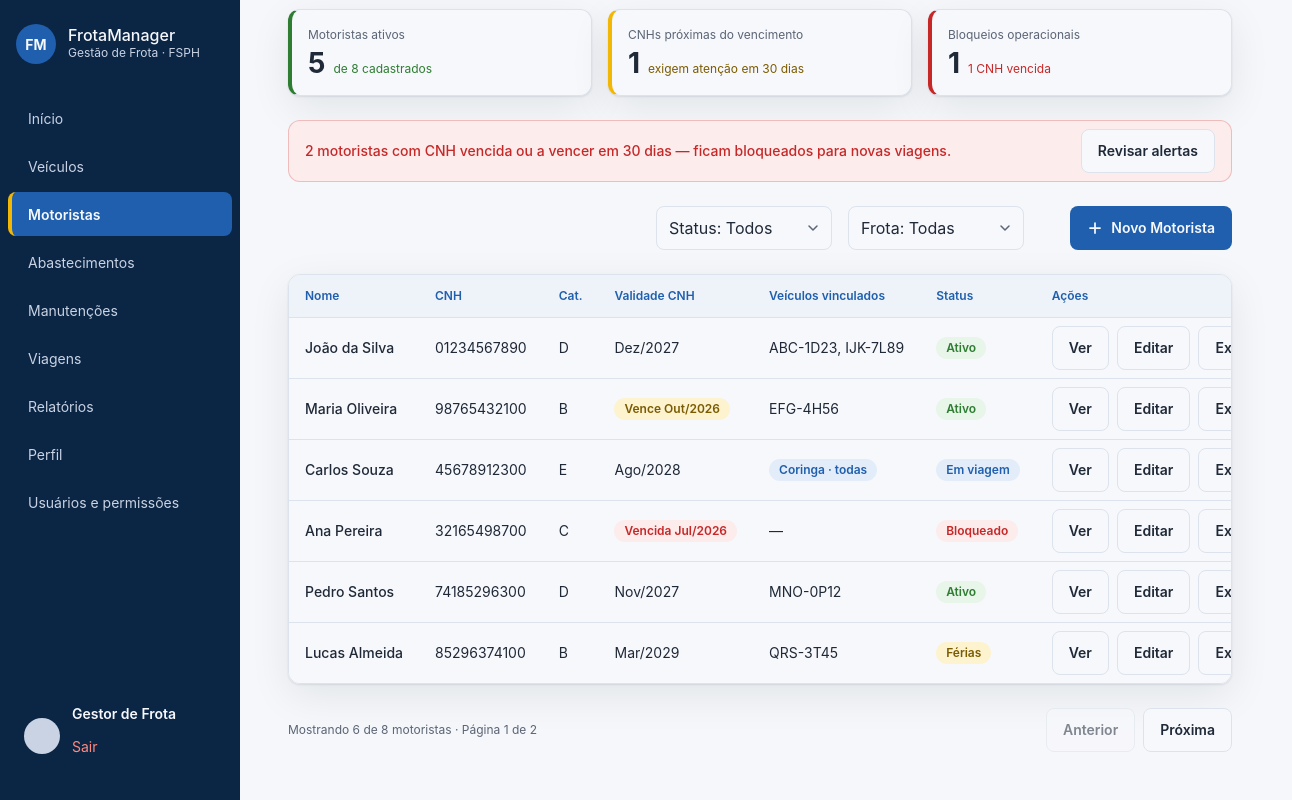
Test case: lista os motoristas e o resumo, com paginação
(page scrolled)
Check: the table named "motoristas da frota" is shown, box top-left (289, 275), bottom-right (1232, 683)
Check: the text "João da Silva" is shown, box top-left (289, 318), bottom-right (419, 378)
Step 1. Click the button "Próxima" → [1188, 730], box top-left (1143, 708), bottom-right (1232, 752)
(page scrolled)
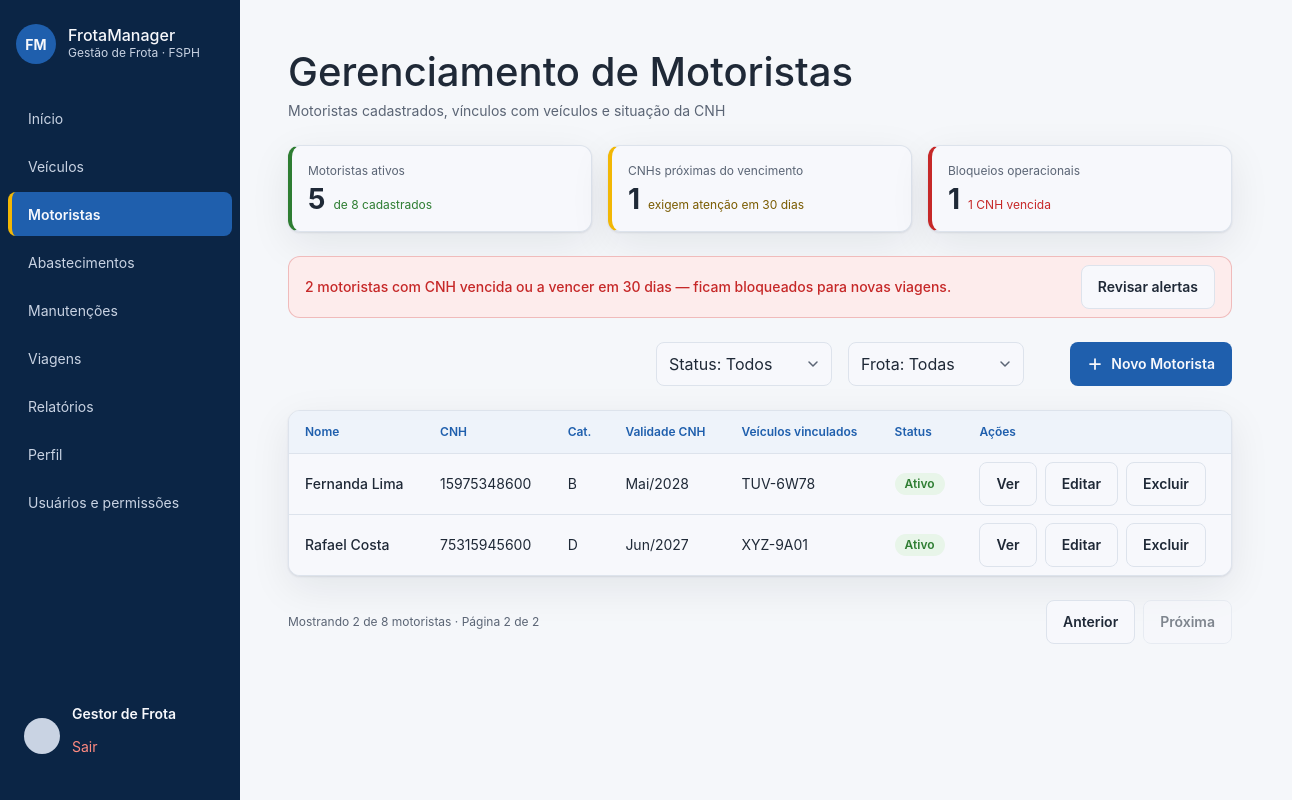
Check: the text "Mostrando 2 de 8 motoristas · Página 2 de 2" is shown, box top-left (288, 613), bottom-right (539, 631)
